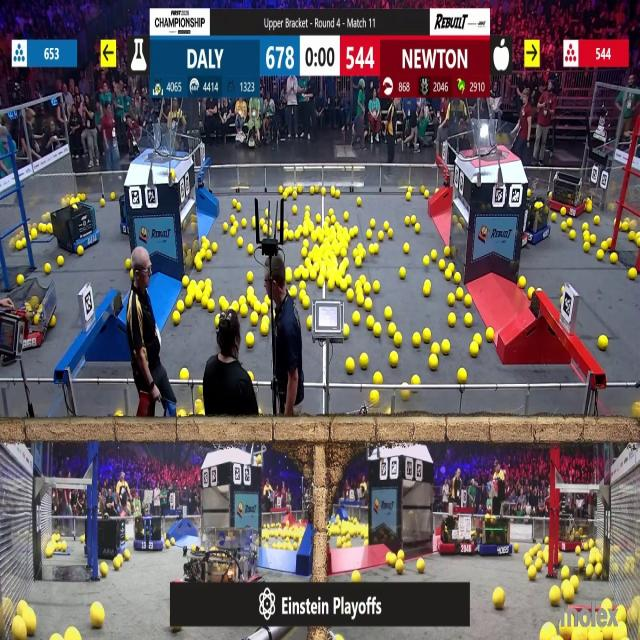ball_ground: (92, 603, 105, 628), (493, 588, 504, 610), (550, 588, 562, 606), (540, 624, 553, 640), (27, 618, 37, 636), (563, 588, 573, 604), (598, 337, 608, 351), (458, 367, 467, 382), (98, 562, 106, 577), (67, 630, 79, 640), (633, 402, 640, 419), (443, 341, 451, 355), (429, 355, 437, 369), (347, 358, 355, 372), (360, 354, 368, 368), (464, 313, 472, 327), (246, 334, 254, 348), (395, 560, 403, 574), (414, 334, 422, 348), (196, 290, 204, 304), (386, 554, 395, 566), (418, 560, 426, 573), (390, 353, 398, 366), (422, 328, 430, 341), (562, 566, 570, 579), (469, 344, 477, 357), (374, 323, 382, 336), (528, 567, 536, 580), (587, 564, 595, 577), (570, 575, 578, 588), (352, 570, 361, 581), (424, 282, 431, 296), (394, 334, 401, 348), (173, 312, 180, 326), (486, 328, 494, 340), (454, 273, 462, 285), (250, 313, 258, 325), (208, 300, 216, 312), (388, 323, 396, 335), (262, 322, 270, 334), (240, 306, 248, 318), (369, 390, 377, 402), (363, 300, 371, 312), (220, 300, 228, 312), (339, 279, 347, 291), (595, 563, 602, 576), (356, 294, 363, 307), (374, 373, 382, 384), (629, 269, 637, 280), (180, 368, 188, 379), (326, 280, 334, 291), (184, 295, 192, 306), (363, 283, 371, 294), (524, 556, 532, 567), (385, 308, 392, 320), (464, 294, 471, 306), (449, 314, 456, 326), (114, 558, 121, 570), (353, 313, 360, 325), (346, 276, 353, 288), (286, 270, 292, 284), (369, 244, 377, 254), (412, 376, 420, 386), (401, 390, 409, 400), (445, 270, 453, 280), (246, 294, 254, 304), (15, 240, 23, 250), (354, 280, 362, 290), (341, 248, 349, 258), (344, 324, 350, 337), (348, 288, 354, 301), (519, 277, 526, 288), (177, 302, 184, 313), (290, 286, 297, 297), (374, 282, 381, 293), (440, 261, 447, 272), (352, 225, 359, 236), (204, 286, 211, 297), (16, 275, 23, 286), (44, 548, 51, 559), (308, 317, 314, 329), (399, 268, 405, 280), (304, 296, 310, 308), (195, 260, 201, 272), (366, 316, 372, 328), (293, 270, 299, 282), (628, 233, 636, 242), (323, 214, 331, 223), (431, 344, 438, 354), (396, 552, 403, 562), (597, 250, 604, 260), (233, 302, 240, 312), (456, 288, 463, 298), (31, 230, 38, 240), (317, 278, 324, 288), (310, 271, 317, 281), (610, 252, 616, 263), (247, 273, 253, 284), (182, 276, 188, 287), (449, 293, 455, 304), (403, 243, 409, 254), (528, 287, 534, 298), (304, 271, 310, 282), (283, 231, 289, 242), (253, 303, 259, 314), (298, 280, 305, 289), (240, 295, 247, 304), (205, 251, 212, 260), (228, 227, 235, 236), (59, 256, 65, 266), (570, 231, 576, 241), (379, 232, 385, 242), (356, 257, 362, 267), (445, 247, 451, 257), (44, 265, 50, 275), (585, 243, 591, 253), (552, 212, 558, 222), (263, 306, 269, 316), (49, 317, 55, 327), (602, 241, 608, 251), (123, 550, 129, 560), (303, 248, 309, 258), (127, 261, 133, 271), (238, 238, 244, 248), (214, 317, 220, 327), (535, 560, 541, 570), (588, 203, 594, 213), (343, 257, 349, 267), (473, 336, 480, 344), (304, 231, 311, 239), (248, 244, 253, 255), (252, 217, 257, 228), (388, 231, 394, 240), (365, 231, 371, 240), (291, 206, 297, 215), (415, 223, 421, 232), (403, 216, 409, 225), (584, 233, 590, 242), (77, 247, 83, 256), (50, 634, 59, 640), (294, 232, 300, 241), (577, 559, 583, 568), (305, 257, 311, 266), (165, 539, 171, 548), (248, 369, 254, 378), (311, 233, 317, 242), (202, 241, 208, 250), (62, 541, 68, 550), (189, 279, 195, 288), (212, 242, 217, 252), (242, 218, 247, 228), (424, 255, 429, 265), (431, 250, 436, 260), (369, 218, 374, 228), (360, 248, 365, 258), (305, 209, 310, 219), (357, 240, 362, 250), (178, 411, 185, 418), (316, 214, 322, 222), (100, 200, 106, 208), (386, 410, 392, 418), (298, 290, 304, 298), (344, 212, 350, 220), (247, 286, 253, 294), (304, 240, 310, 248), (110, 191, 116, 199), (234, 202, 240, 210), (449, 265, 455, 273), (199, 280, 205, 288), (282, 191, 288, 199), (276, 220, 282, 228), (259, 218, 265, 226), (584, 222, 590, 230), (291, 190, 297, 198), (330, 188, 336, 196), (515, 542, 520, 551), (591, 236, 596, 245), (567, 218, 572, 227), (222, 222, 227, 231), (288, 232, 293, 241), (264, 224, 269, 233), (561, 208, 566, 217), (360, 276, 366, 283), (231, 216, 237, 223), (206, 279, 212, 286), (313, 245, 319, 252), (420, 185, 426, 192), (595, 216, 600, 224), (353, 249, 358, 257), (412, 215, 417, 223), (266, 295, 271, 303), (407, 194, 412, 202), (384, 221, 389, 229), (357, 200, 362, 208), (283, 220, 288, 228), (424, 190, 429, 198), (328, 208, 333, 216), (575, 546, 580, 554), (131, 271, 135, 280), (80, 535, 85, 542), (527, 188, 532, 195), (279, 186, 284, 193), (562, 222, 566, 230), (330, 215, 334, 223), (543, 536, 547, 544), (191, 544, 195, 552), (321, 187, 325, 195), (364, 539, 368, 546), (337, 190, 341, 197), (171, 538, 175, 544), (266, 209, 269, 217)
goal: (465, 124, 522, 161), (132, 130, 190, 160)
robot_blue: (56, 194, 100, 253), (96, 514, 130, 560), (522, 196, 552, 245), (477, 514, 512, 556), (133, 517, 164, 551)
robot_red: (2, 283, 56, 351), (550, 165, 590, 215), (439, 512, 482, 555), (558, 515, 590, 550)
